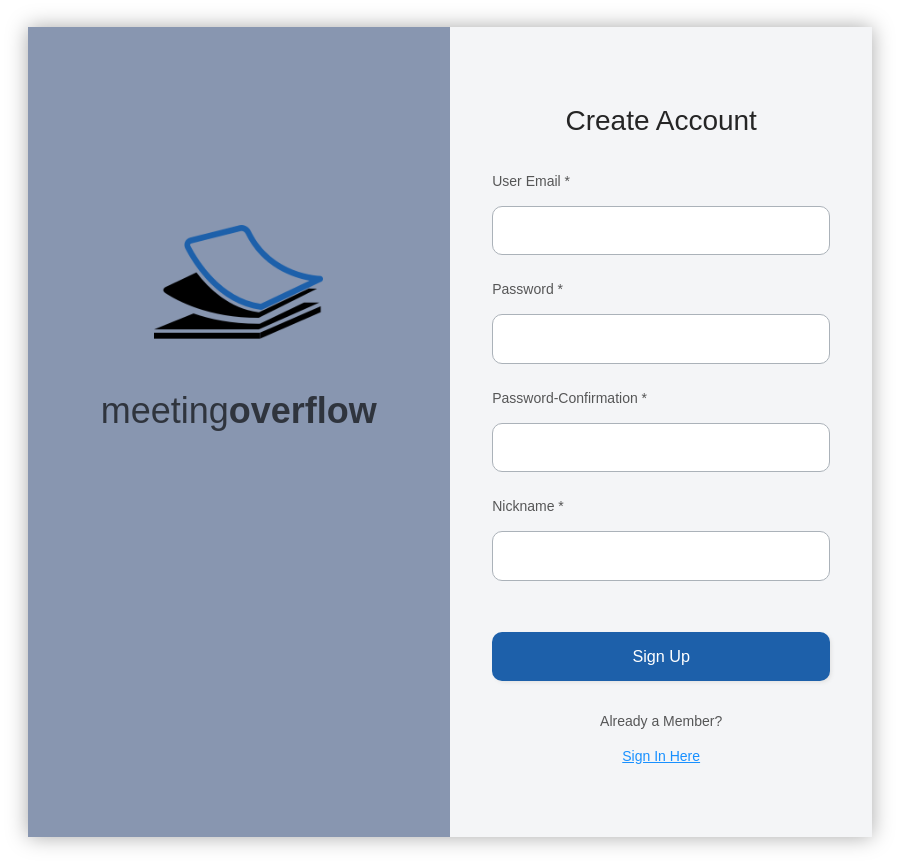
Test: <SignUp /> › When input email is already existing in DB
Type "existing@test.com" into the field with id "user_email" at (661, 230), box [492,206,830,255]
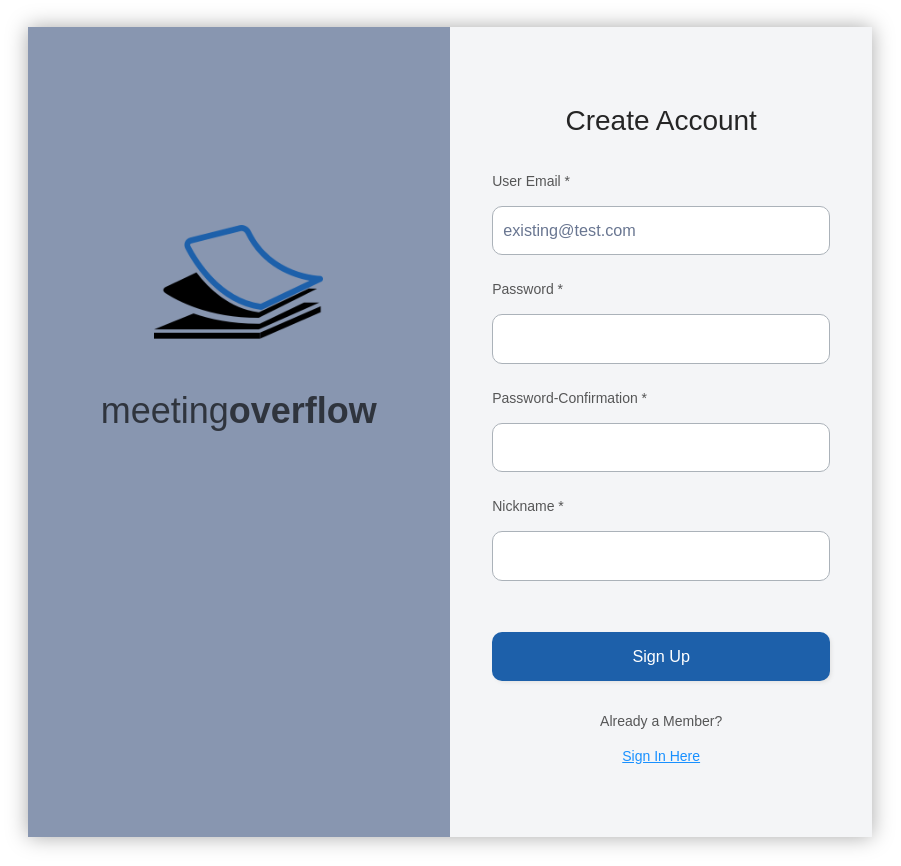
Leave the field with id "user_email", box [492,206,830,255]
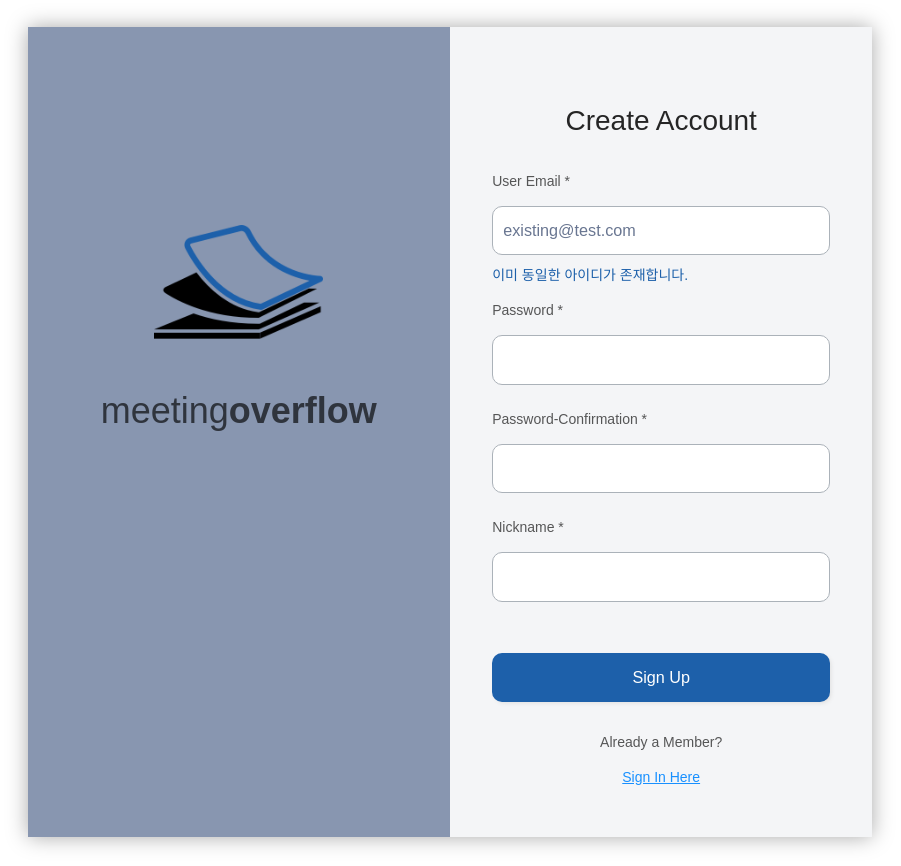
Result: the text "이미 동일한 아이디가 존재합니다." is shown at [492,267,688,283]
